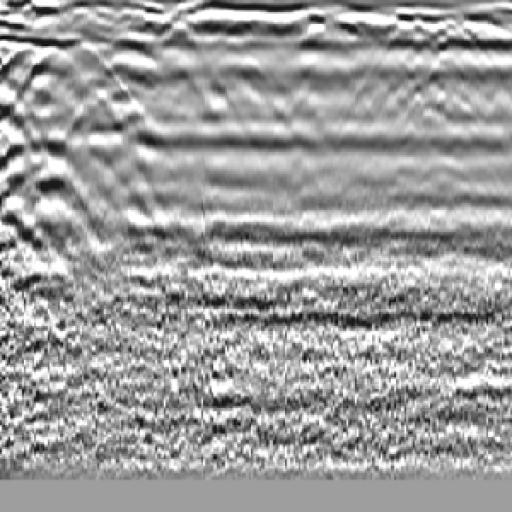non-metallic: (1, 23, 139, 240)
